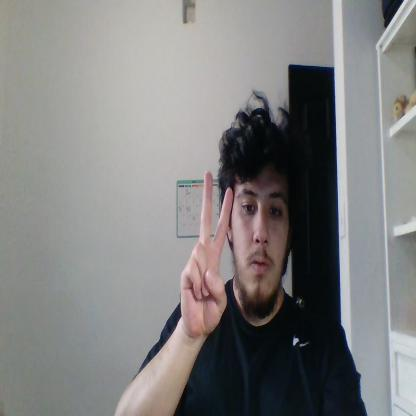V: (180, 171, 233, 337)
